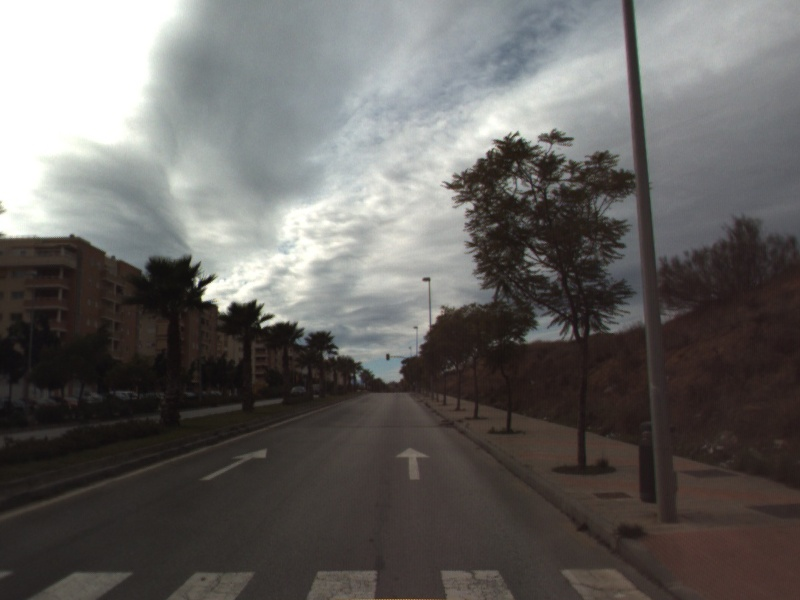STRAIGHT: (197, 446, 269, 482), (393, 445, 433, 481)
